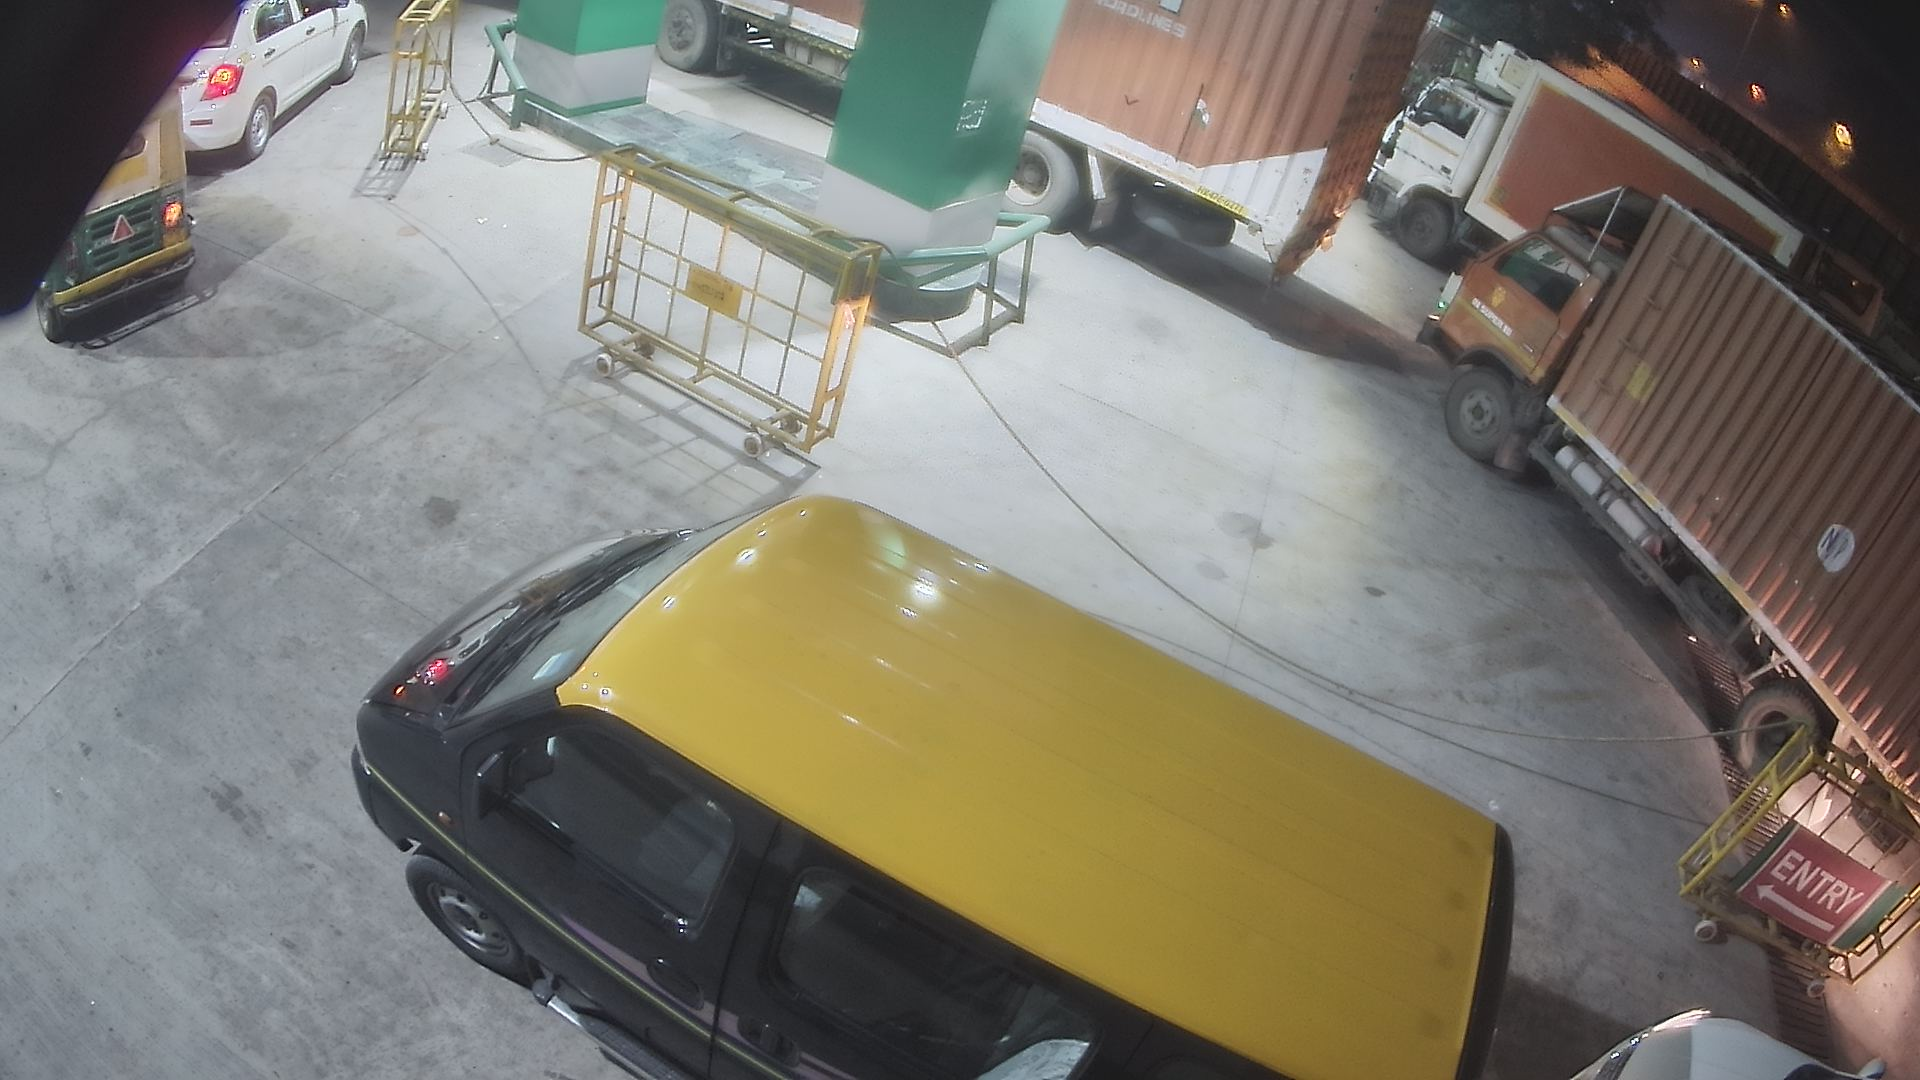Auto: (15, 38, 215, 356)
Car: (328, 473, 1545, 1077), (135, 0, 404, 175), (1476, 992, 1917, 1077)
HMV: (1394, 170, 1917, 887), (640, 1, 1456, 305), (1342, 1, 1826, 378), (1731, 182, 1905, 372)
